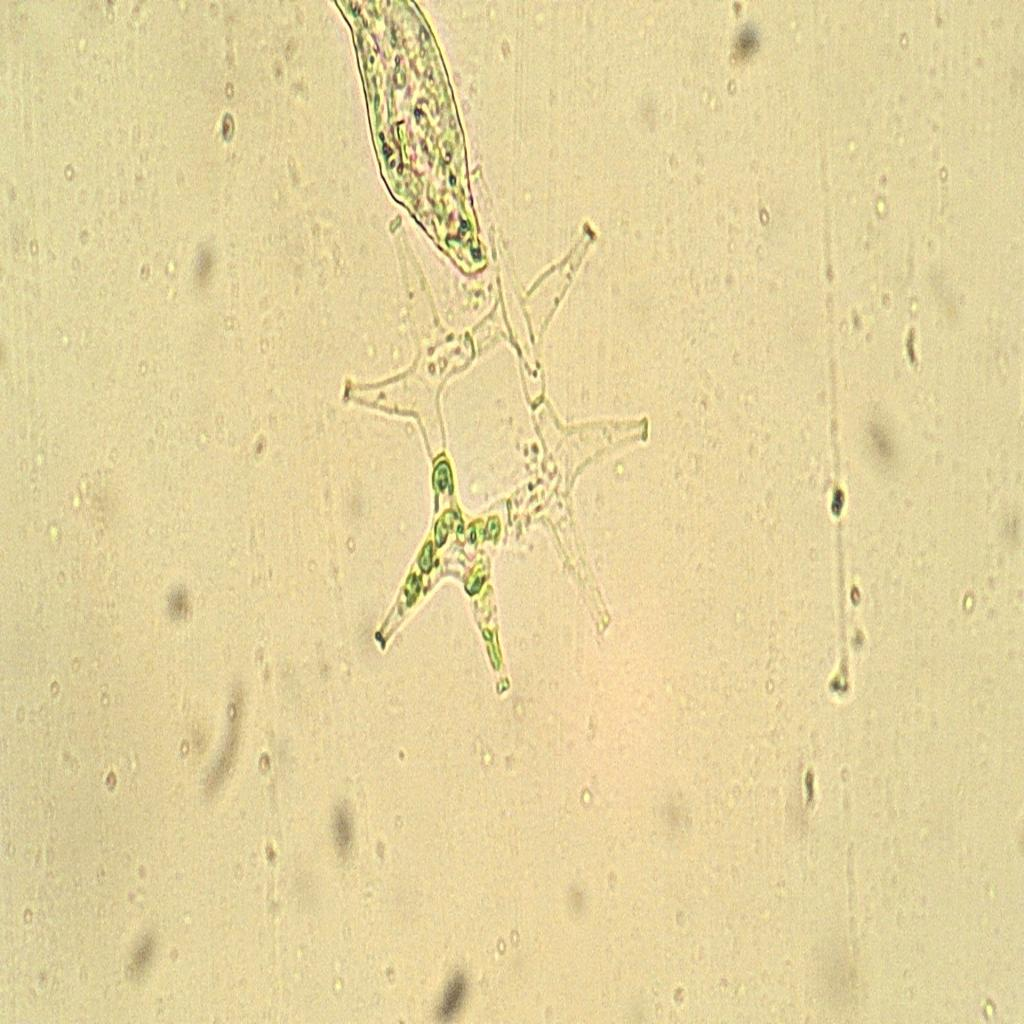Pediastrum_75TH: (333, 140, 653, 733)
